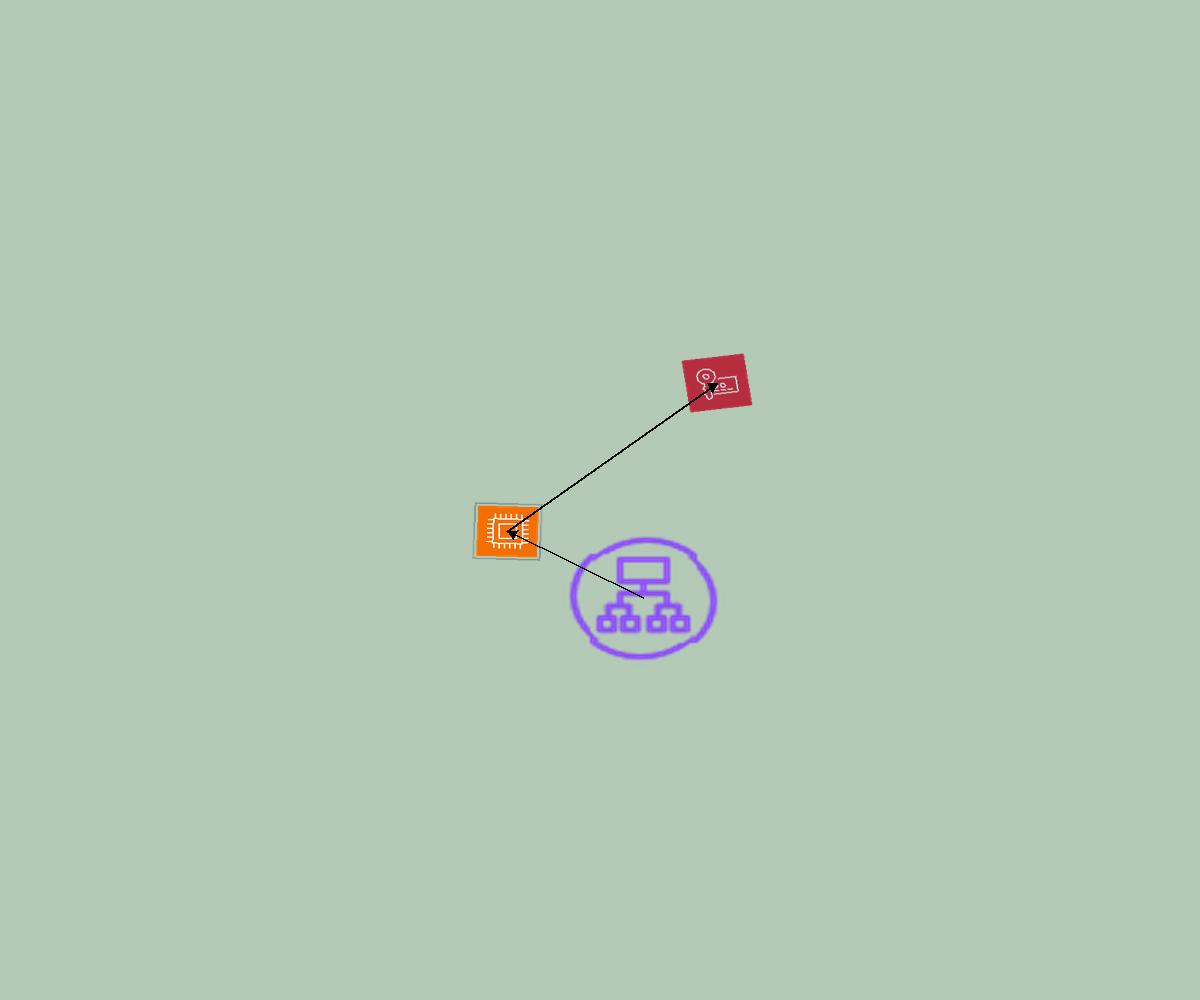AWS-Category_Compute: (472, 502, 543, 561)
AWS-Key-Management-Service: (681, 353, 753, 413)
AWS-Res_Elastic-Load-Balancing_Application-Load-Balancer: (560, 529, 727, 668)
